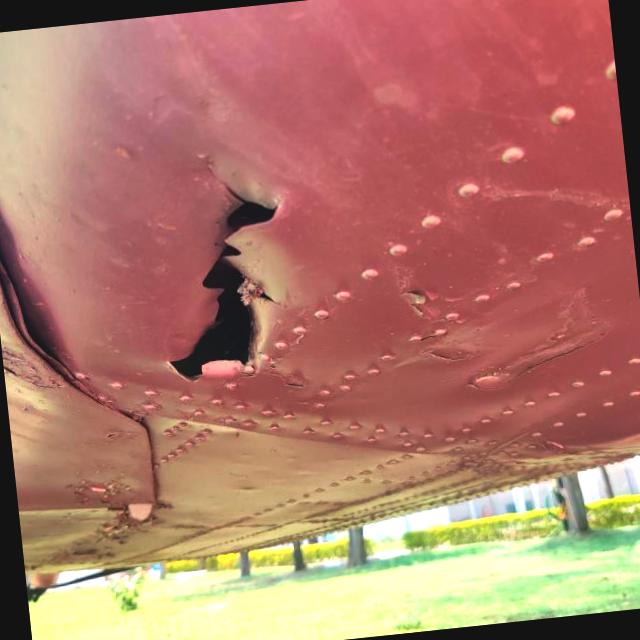crack: (134, 136, 314, 398)
paint-off: (391, 274, 459, 346)
